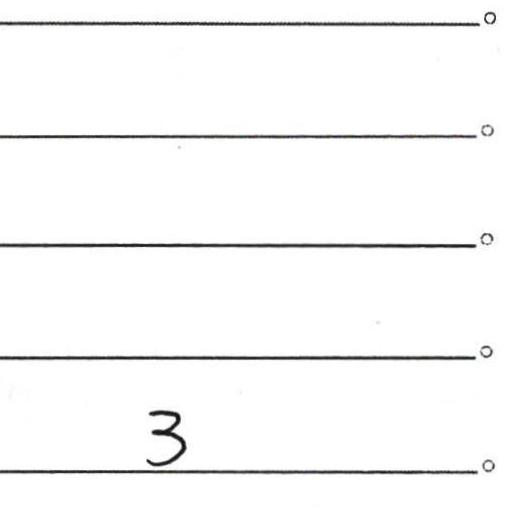ans: (140, 404, 189, 468)
